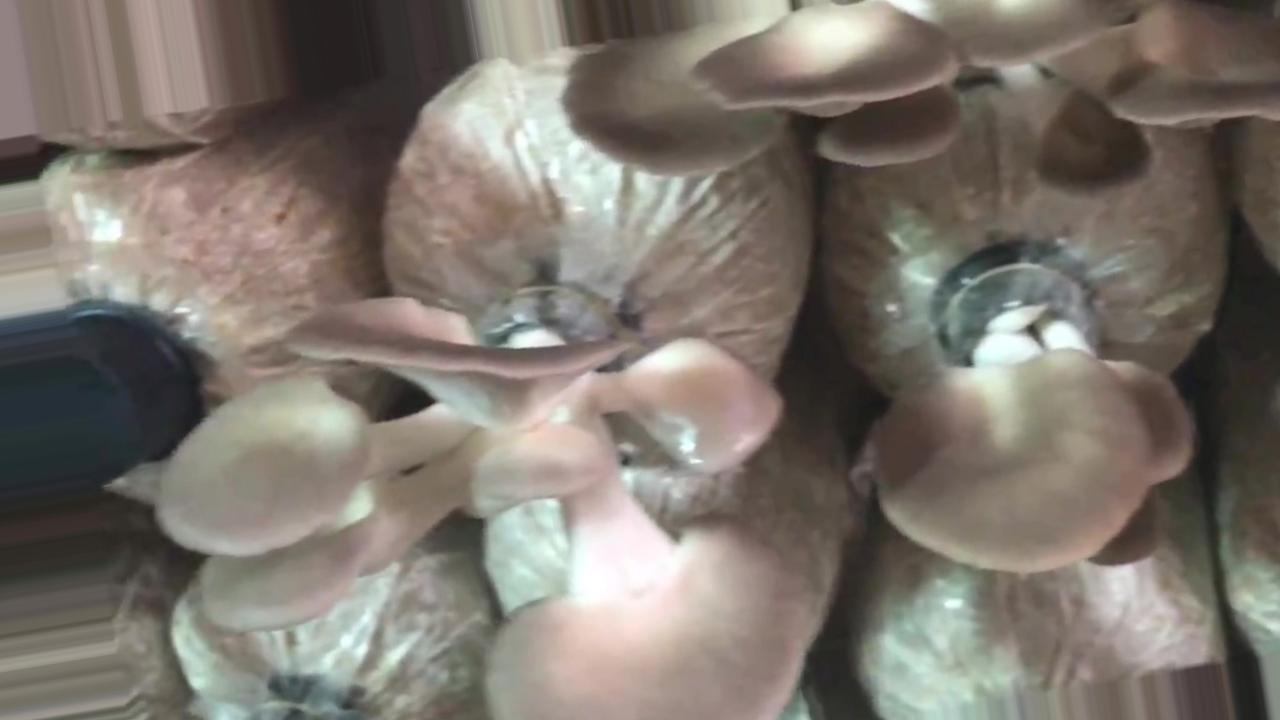nam: (155, 289, 814, 720), (560, 2, 1277, 206), (866, 238, 1199, 582)
